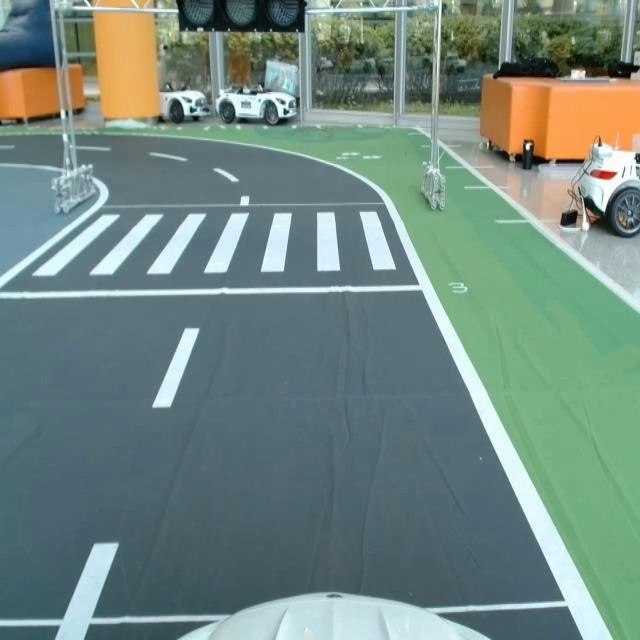traffic-light: (170, 0, 313, 36)
